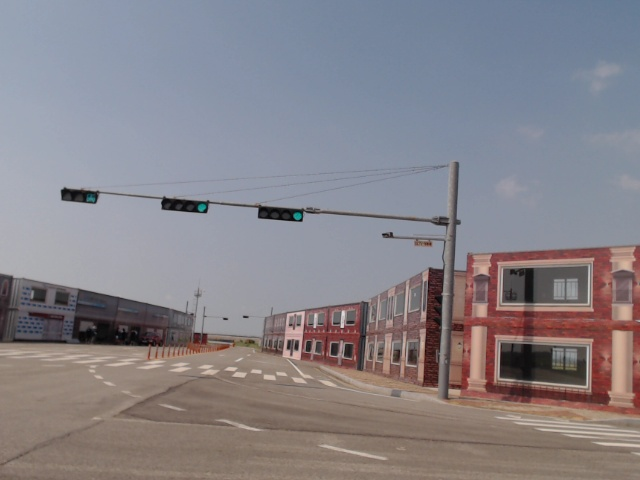straight_green_4: (162, 198, 209, 213), (259, 207, 303, 223)
